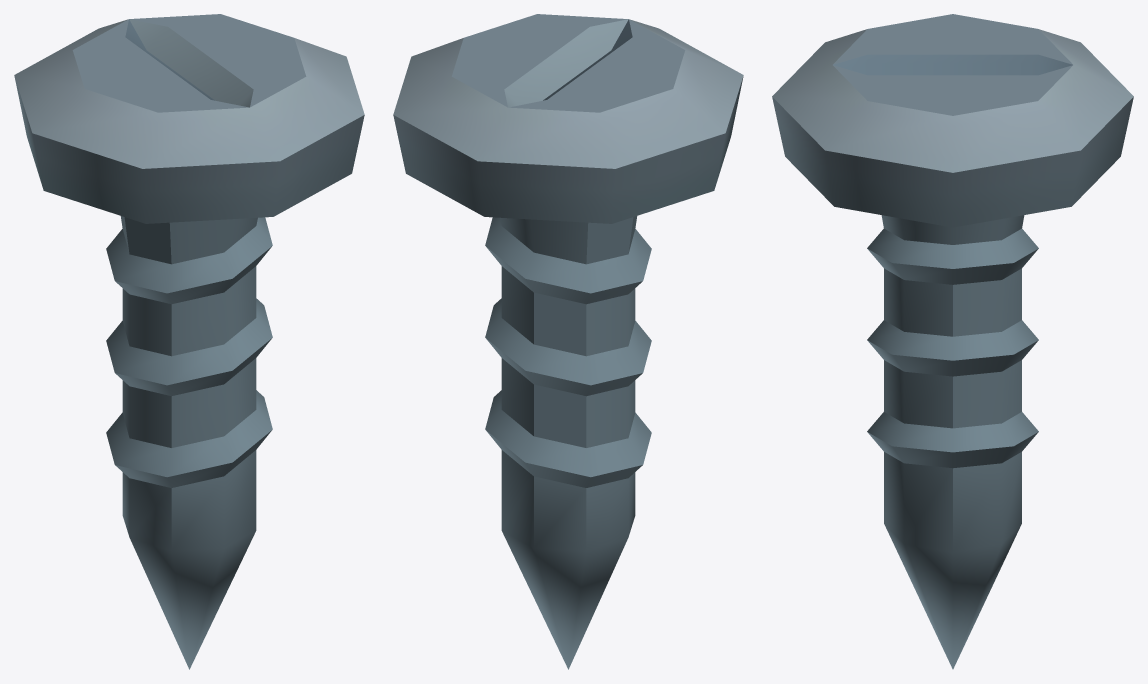
File: screw_a.glb
3 views of the same model, side by side, from view 1: azimuth 30°, elevation 25°; view 2: azimuth 150°, elevation 25°; view 3: azimuth 270°, elevation 25° (orthographic).
Parts seen in each view (by area): view 1: screw_A; view 2: screw_A; view 3: screw_A.
Part boxes in pixels (x1,y1,x2,y2): screw_A: (14,14,364,669); screw_A: (393,14,743,669); screw_A: (772,14,1133,669).
Size of the model in its own units: 0.1589 by 0.2931 by 0.1589.
1 material, 1 textured.
